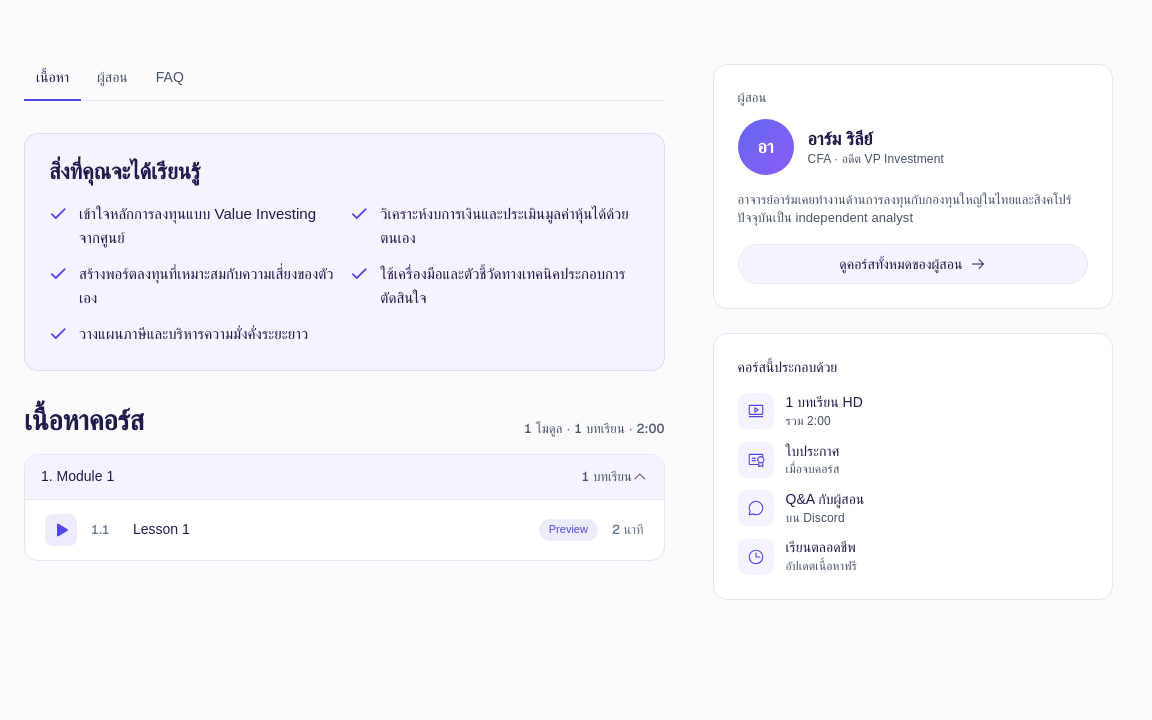
Test: CourseTabs › switches to instructor tab on click
Click the tab "ผู้สอน" at (112, 82), box [85,64,140,100]
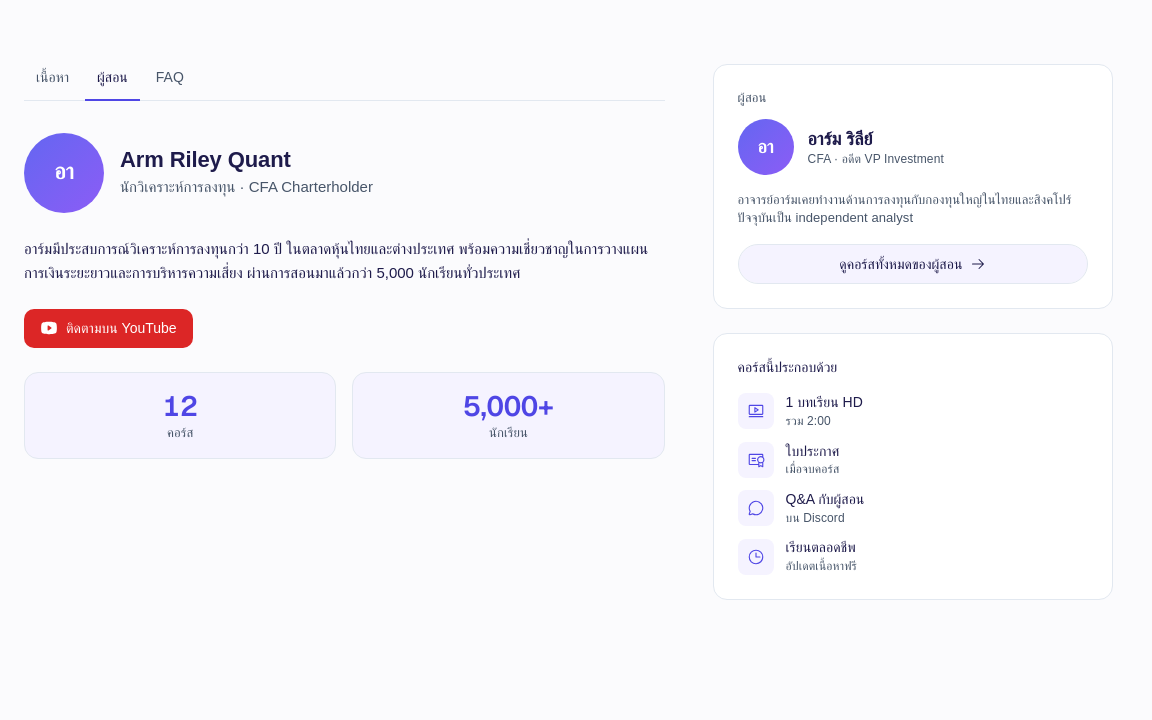
Check: the heading "Arm Riley Quant" is shown, box [120,147,291,172]
Check: the text "นักวิเคราะห์การลงทุน · CFA Charterholder" is shown, box [120,175,373,199]
